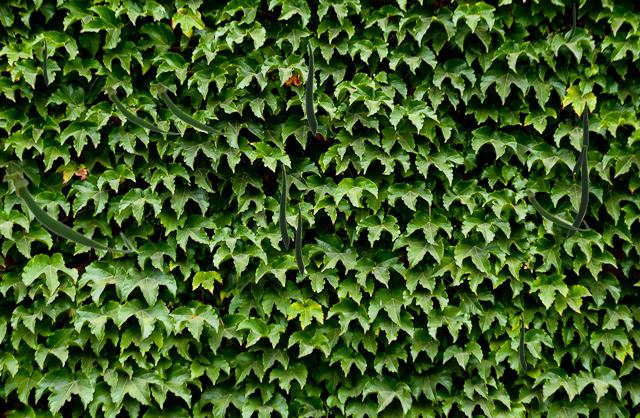french_bean: (1, 171, 133, 253), (149, 81, 236, 135), (100, 84, 181, 134), (521, 188, 589, 230), (563, 145, 587, 239), (569, 101, 587, 174), (305, 41, 316, 135), (279, 163, 288, 248), (295, 202, 303, 275), (519, 312, 525, 372), (566, 3, 574, 42), (43, 37, 47, 85)
